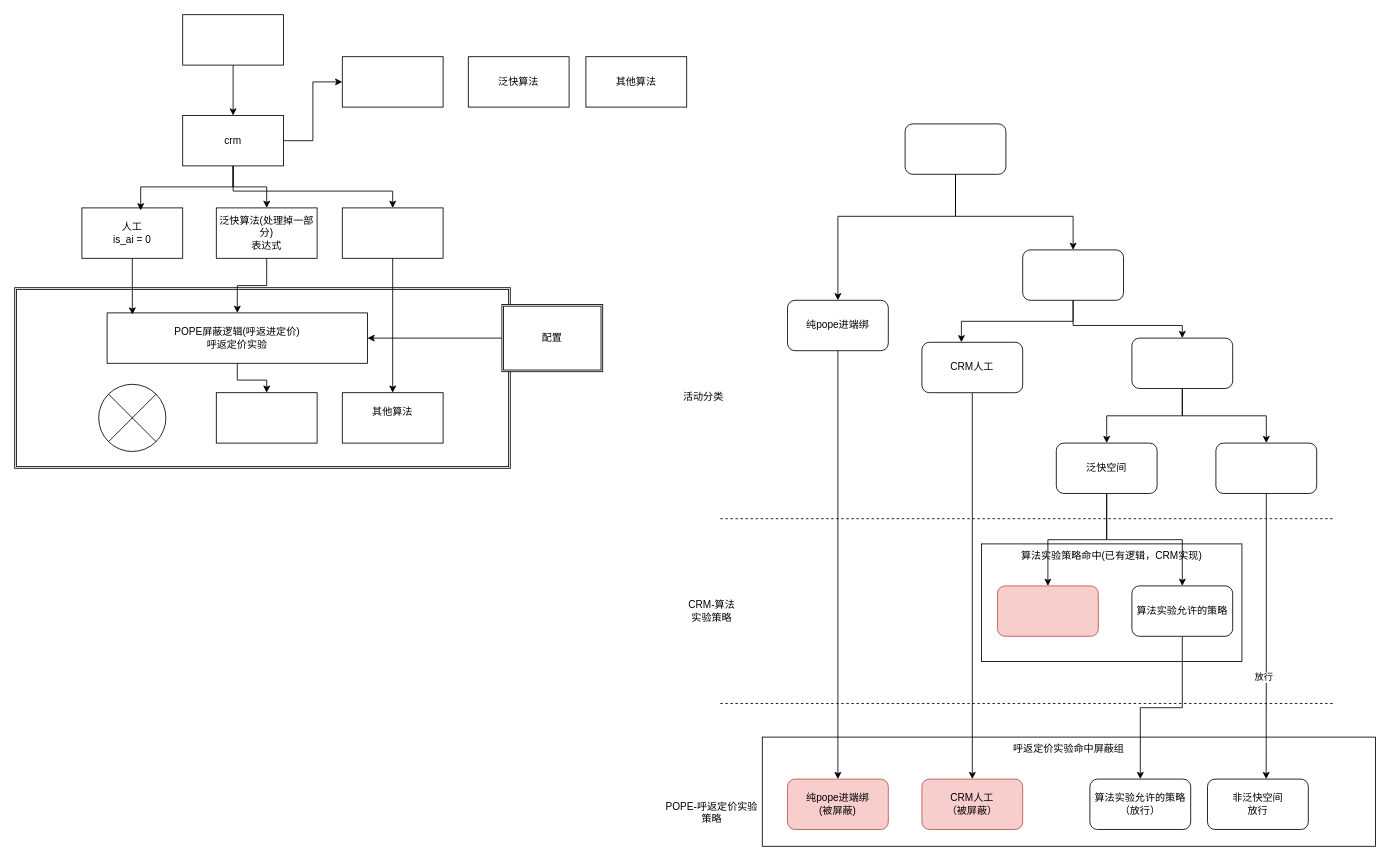
Some shapes in this 1390 by 861 pixel diagram are drawn without their labels. The centre of each missing label's shape, as x and y in pixels:
CRM算法: the point at 1182,362
CRM进端绑: the point at 1073,274
人工: the point at 392,81
其他算法 ddo命中/不命中 namespace=xxx: the point at 392,232
其他算法策略 (被屏蔽): the point at 1047,610
泛快算法(处理掉一部分): the point at 266,417
进端绑: the point at 955,148
进端绑流量: the point at 233,39
非泛快空间: the point at 1266,468
